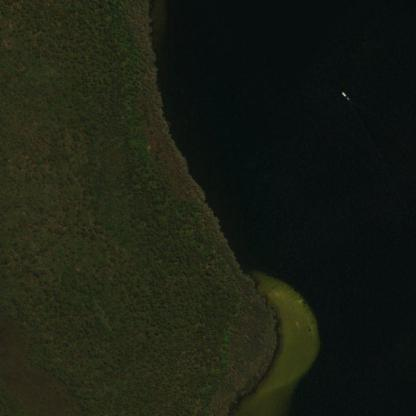ship: (339, 89, 344, 94)
